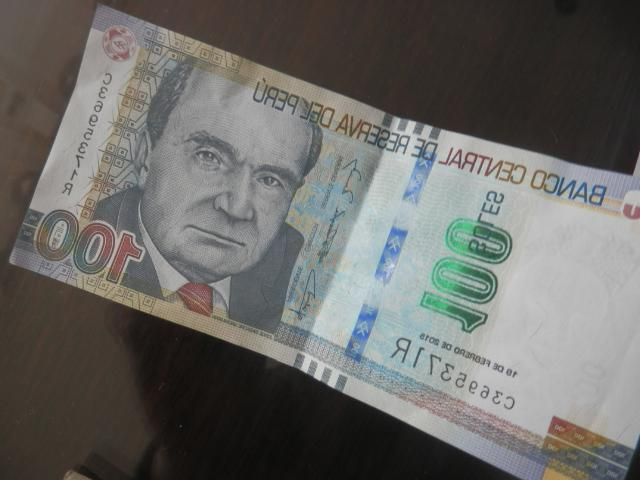B100: (10, 4, 640, 478)
